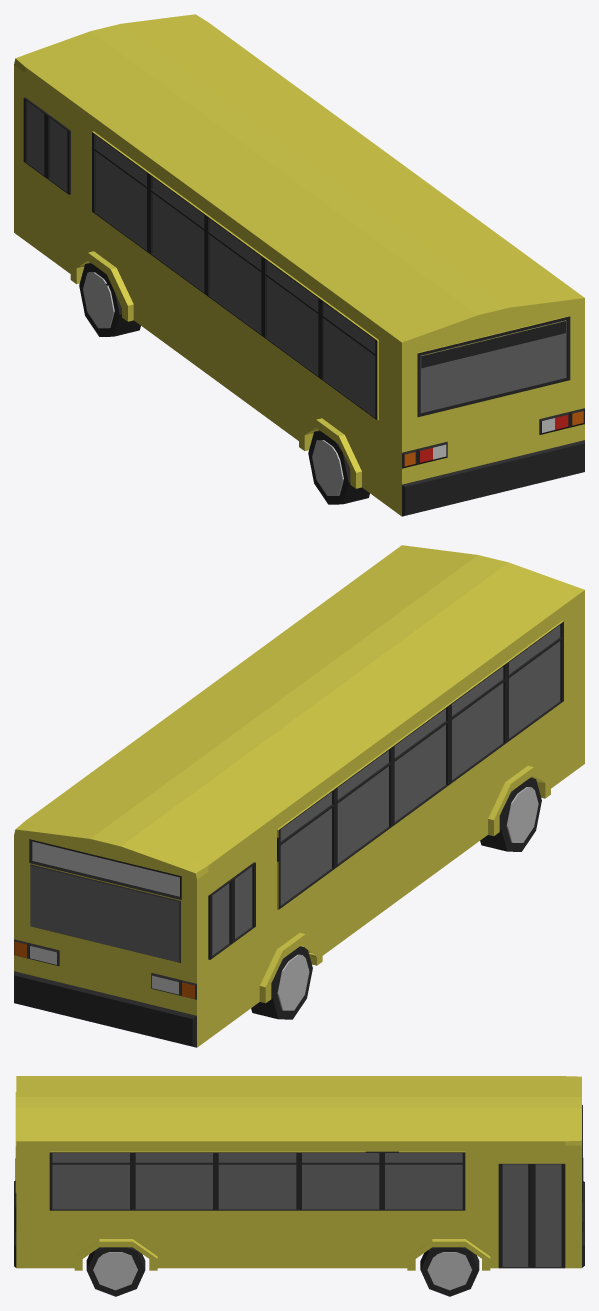
The model's file is Bus1Coloured.fbx.
3 views of the same model, one above another, from view 1: azimuth 30°, elevation 25°; view 2: azimuth 150°, elevation 25°; view 3: azimuth 270°, elevation 25° (orthographic). The views are drawn at different scales.
Visible parts, largest first — view 1: Cube; view 2: Cube; view 3: Cube.
Part boxes in pixels (x1=…): Cube: x1=14, y1=14, x2=584, y2=516; Cube: x1=14, y1=545, x2=584, y2=1047; Cube: x1=14, y1=1076, x2=584, y2=1296.
Size of the model in its own units: 351 by 375 by 1211.
